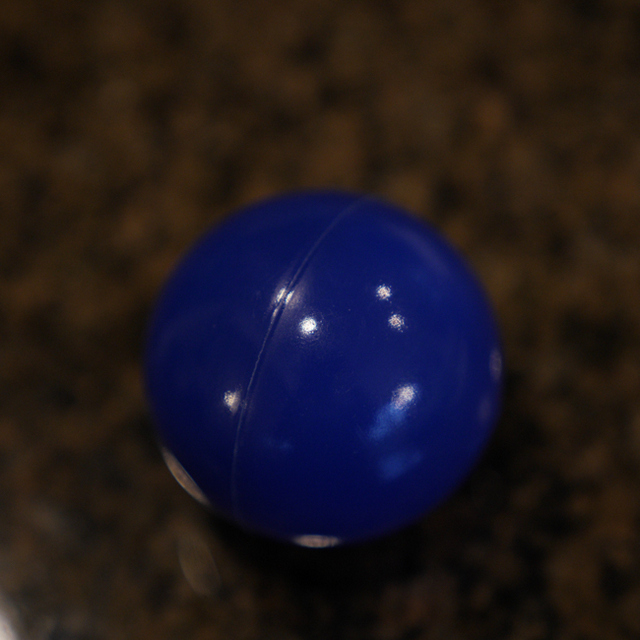Ball: (151, 188, 494, 550)
